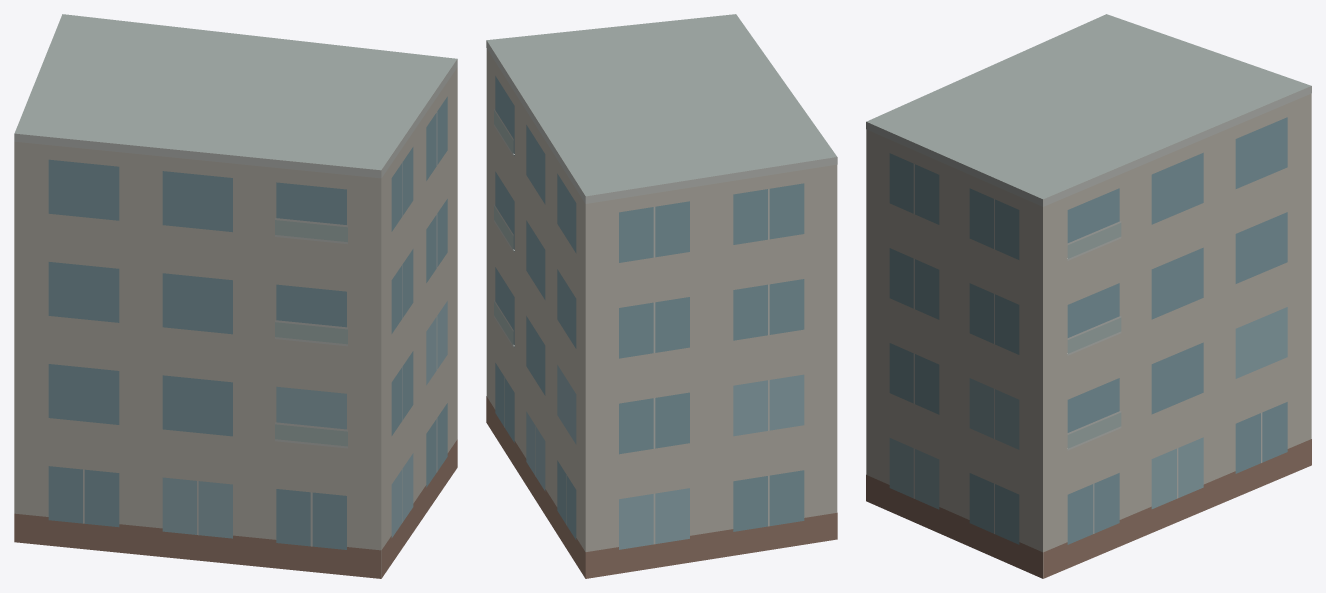
The model's file is residential-f89a5257-ec31-44fd-98c4-99458be4c776.glb.
3 renders of one model, left to right at view 1: azimuth 30°, elevation 25°; view 2: azimuth 150°, elevation 25°; view 3: azimuth 270°, elevation 25°, orthographic. The views are drawn at different scales.
Parts seen in each view (by area): view 1: residential-f89a5257-ec31-44fd-98c4-99458be4c776.tmp; view 2: residential-f89a5257-ec31-44fd-98c4-99458be4c776.tmp; view 3: residential-f89a5257-ec31-44fd-98c4-99458be4c776.tmp.
Boxes of the visible parts, x1,y1,x2,y2 form: residential-f89a5257-ec31-44fd-98c4-99458be4c776.tmp: (14, 14, 457, 578); residential-f89a5257-ec31-44fd-98c4-99458be4c776.tmp: (486, 14, 837, 578); residential-f89a5257-ec31-44fd-98c4-99458be4c776.tmp: (866, 14, 1311, 578).
Bounding box in the file's own units: 12.79 × 12.2 × 12.99.
